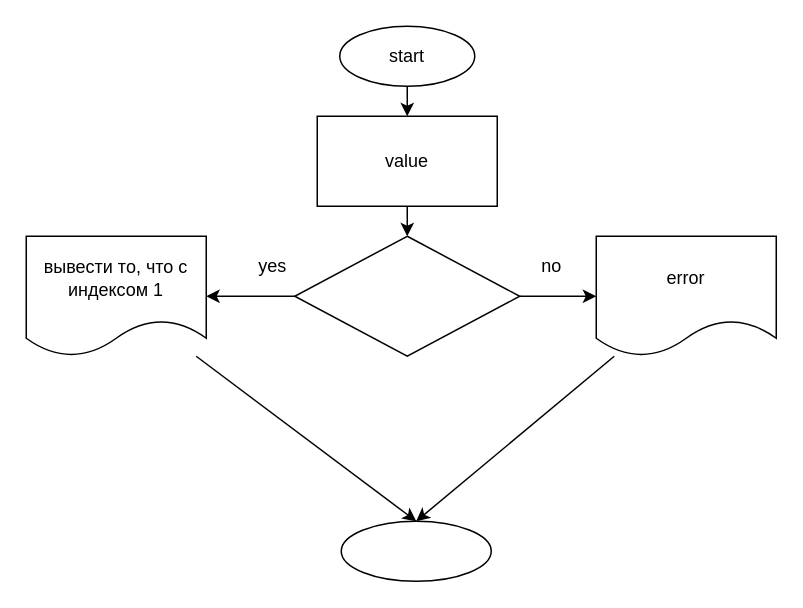
This 803x608 diagram has some shape labels left out. Here are the shapes that lost their labels. From the top down, the box of each, then its label:
(293, 235, 520, 356): число трехзначное?
(340, 520, 491, 581): end
